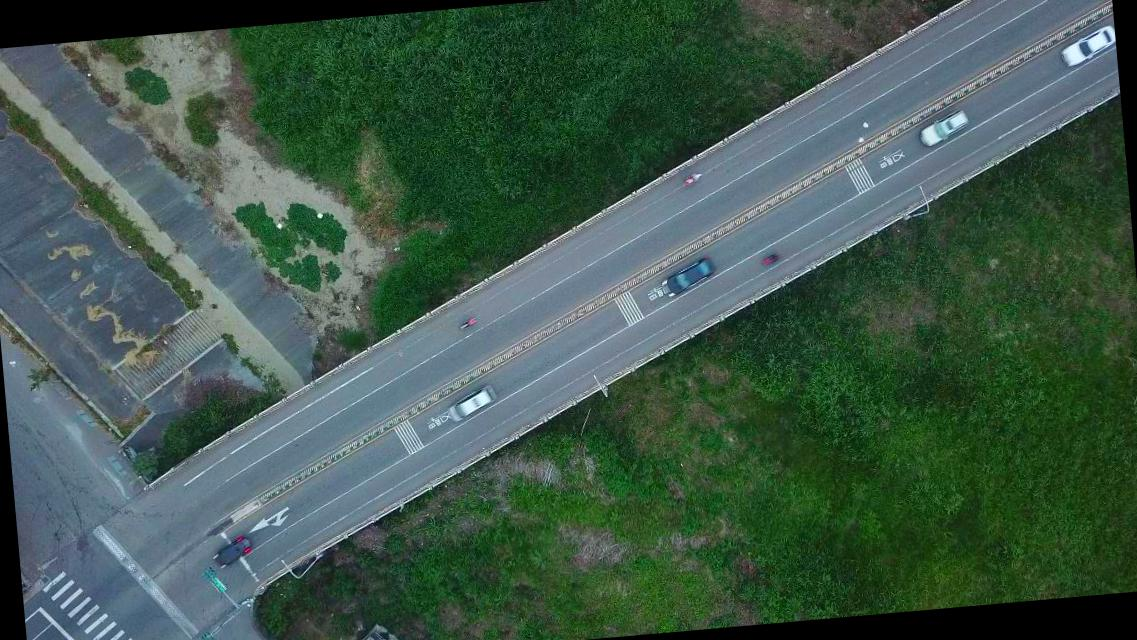vehicle: (1058, 24, 1116, 70), (660, 256, 718, 300), (444, 384, 500, 424), (918, 110, 970, 146), (211, 537, 252, 570)
